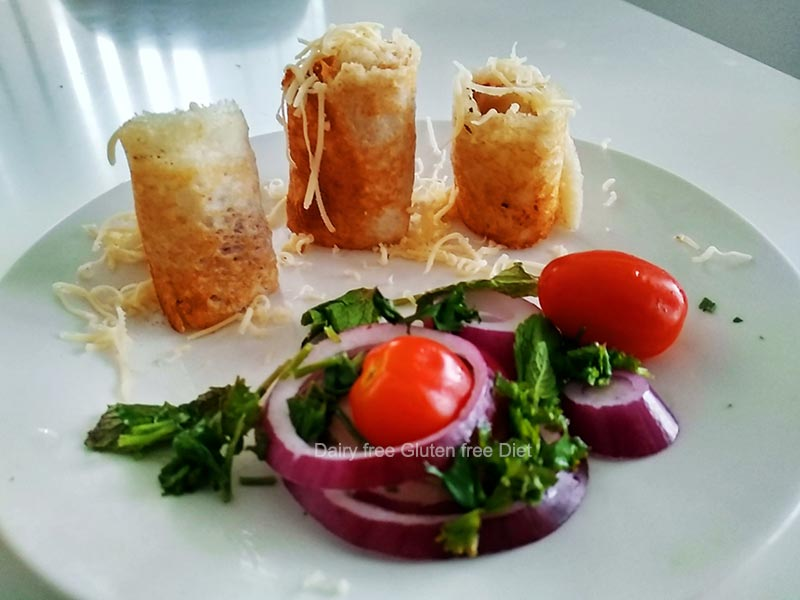dosa: (101, 13, 610, 321)
